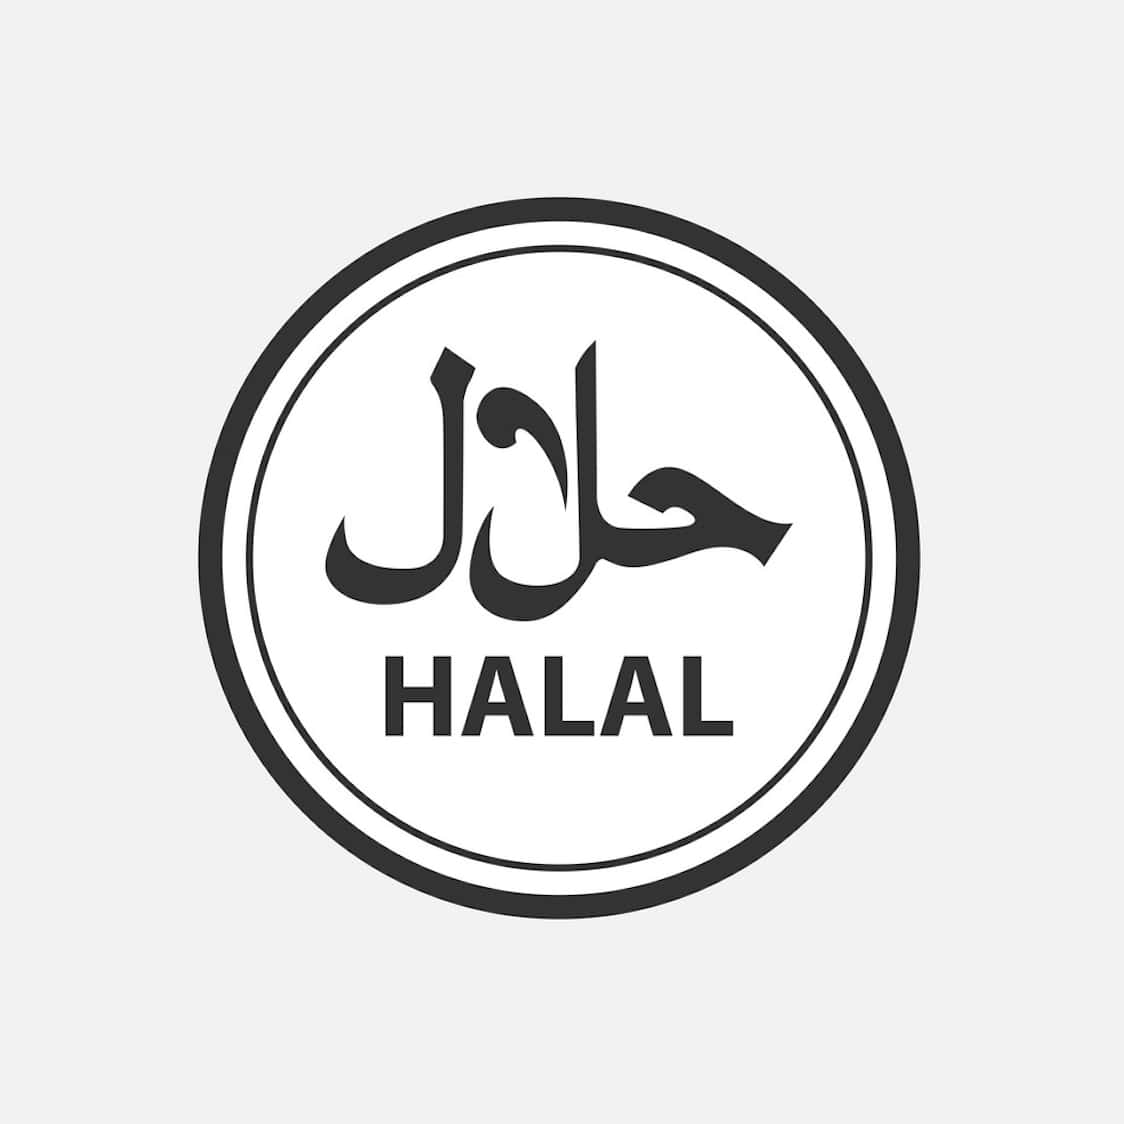Halal: (209, 202, 922, 921)
